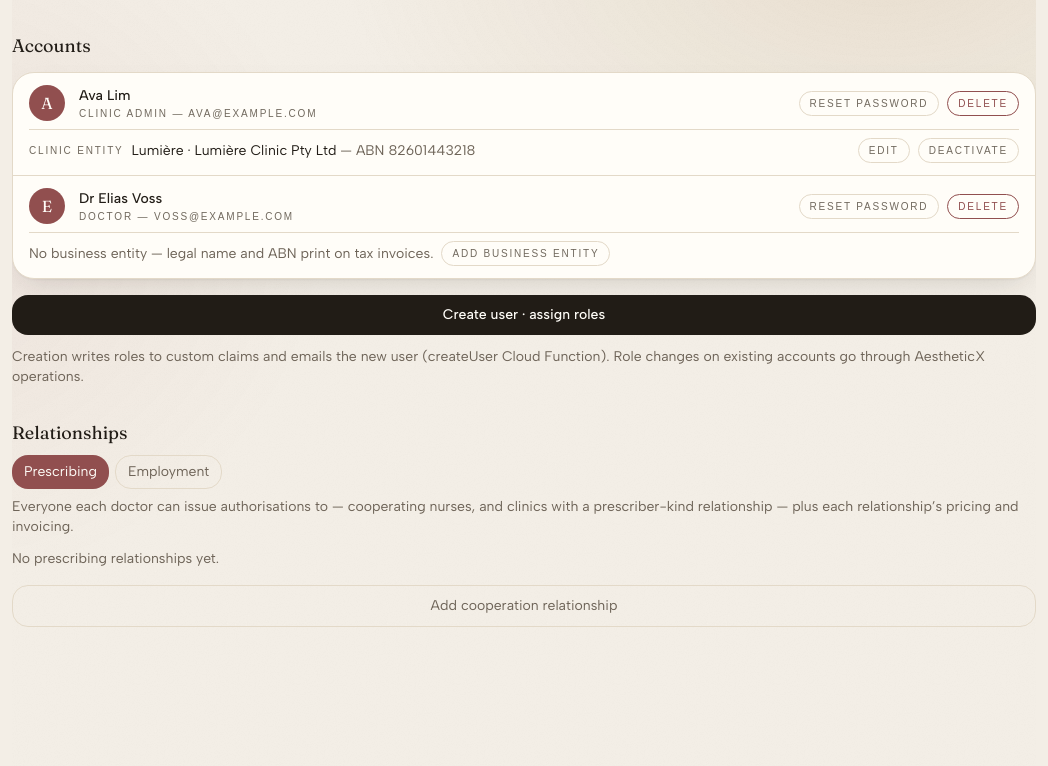
it: AccountEntityLine › keeps the edit form open and shows the error when the save fails
The width and height of the screenshot is (1048, 766).
Click the button "Edit": (884, 150) [858,138,910,163]
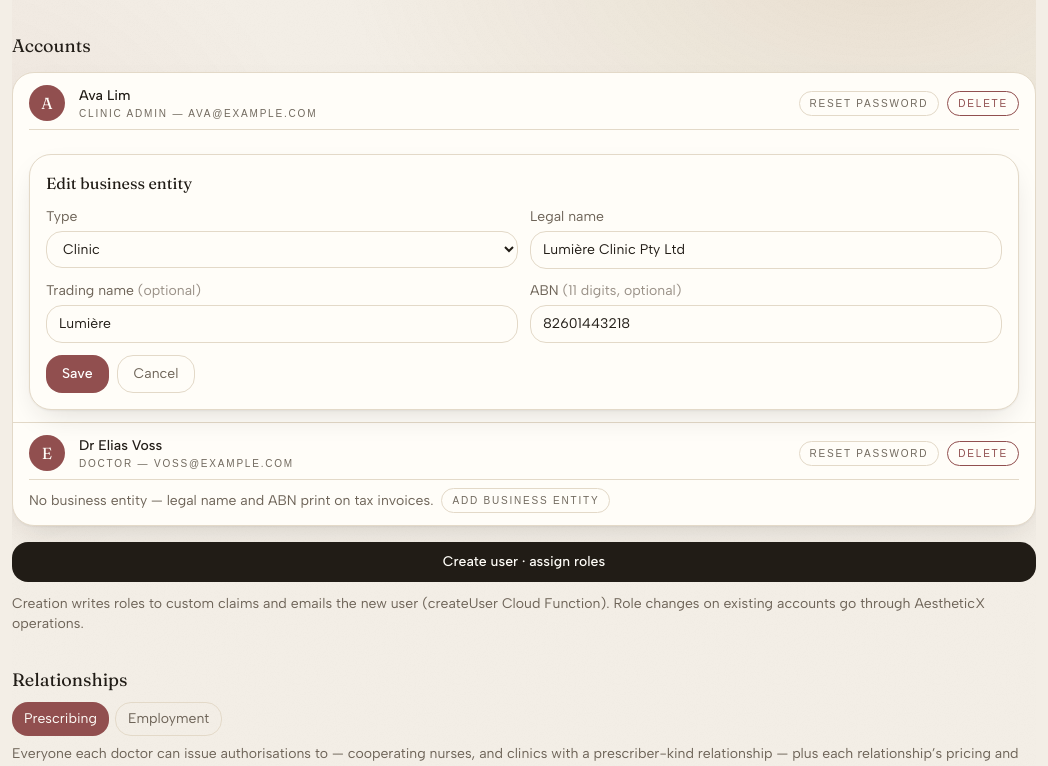
Replace the text in the field showing "Lumière Clinic Pty Ltd" with "Lumière Group Pty Ltd": (766, 250) [530,231,1002,269]
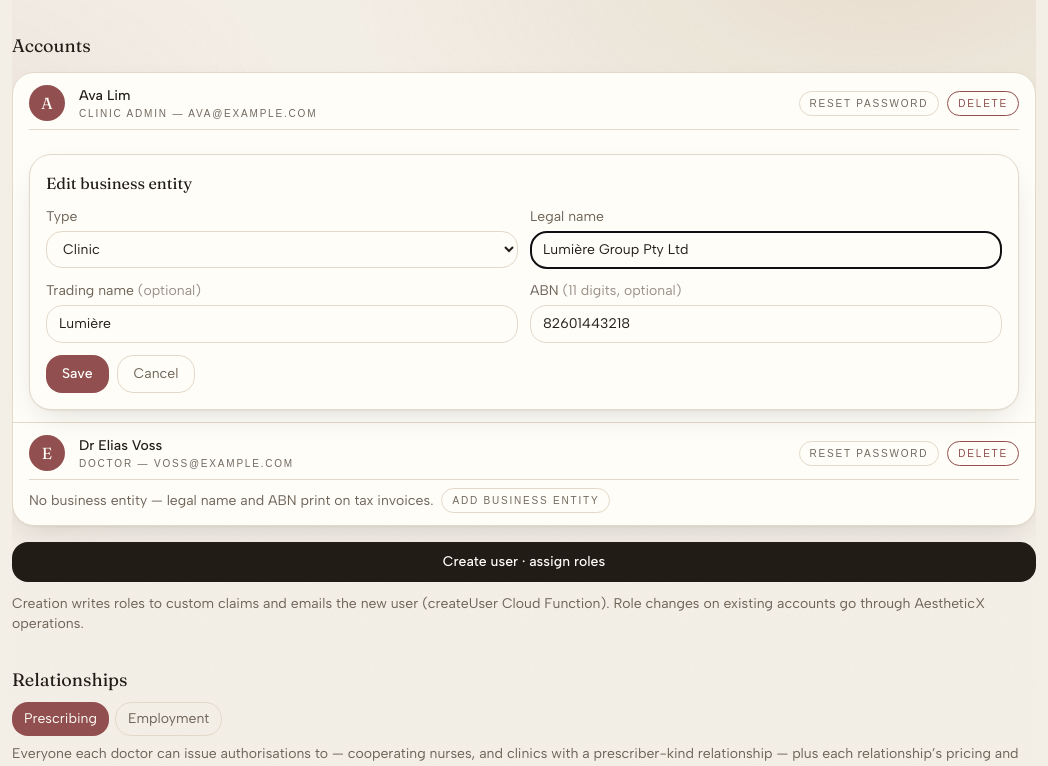
Click the button "Save": (77, 374) [46,355,109,393]
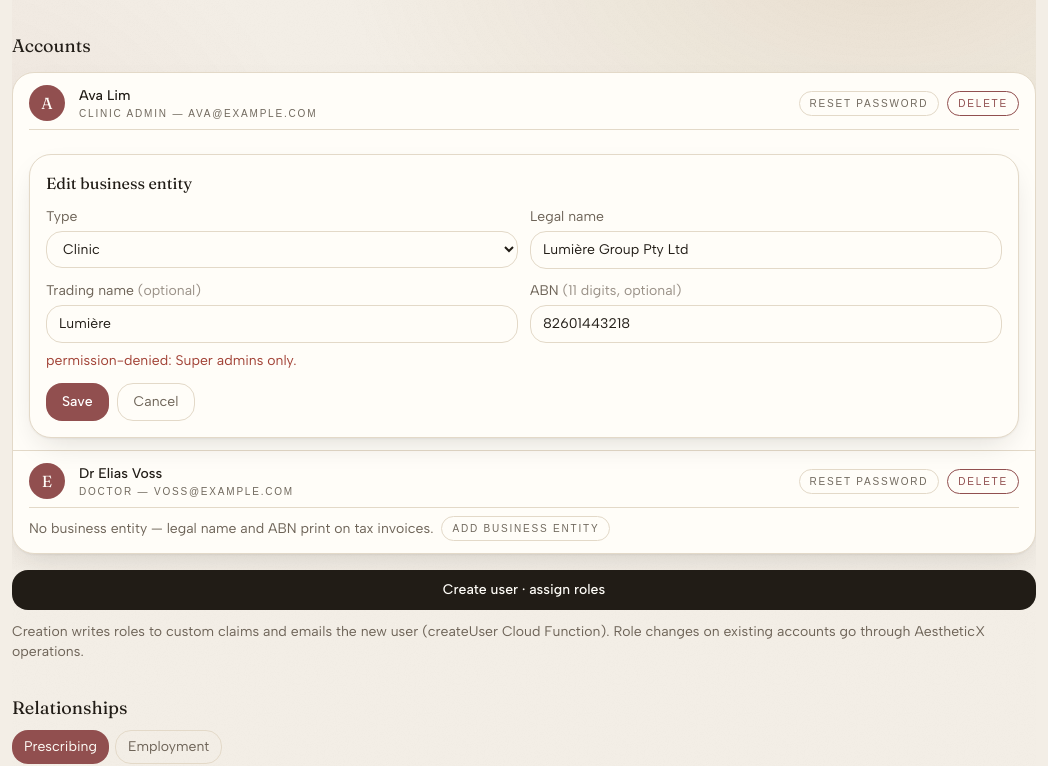
Expected: the text "permission-denied: Super admins only." is shown, [46,352,296,369]
